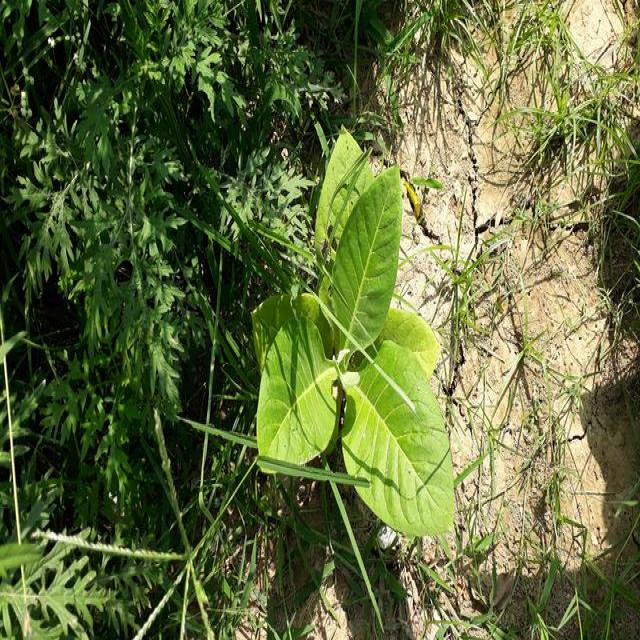crop: (256, 116, 456, 547)
